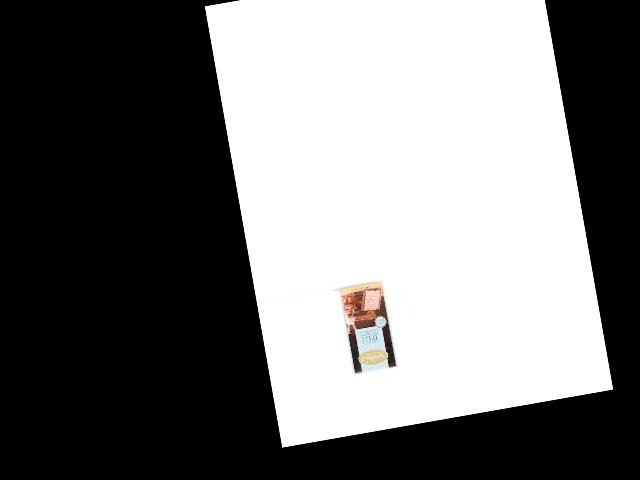chocolate: (336, 279, 399, 375)
